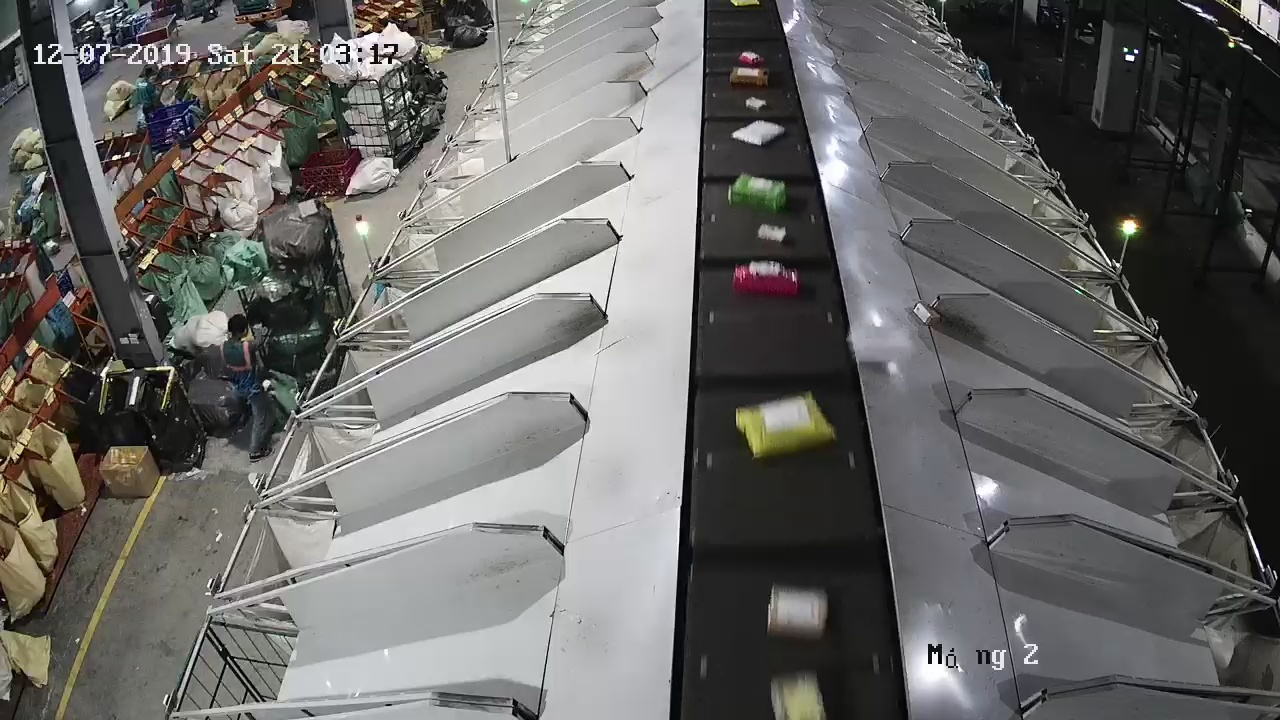parcel: (845, 324, 915, 365)
